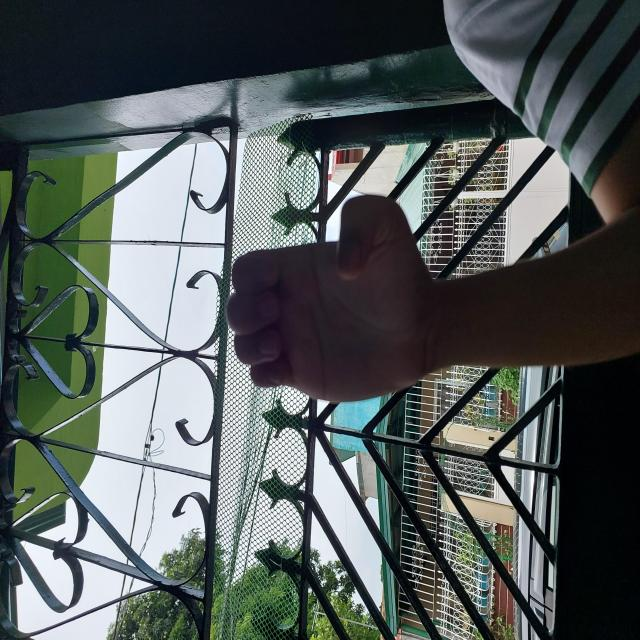E: (234, 223, 446, 440)
